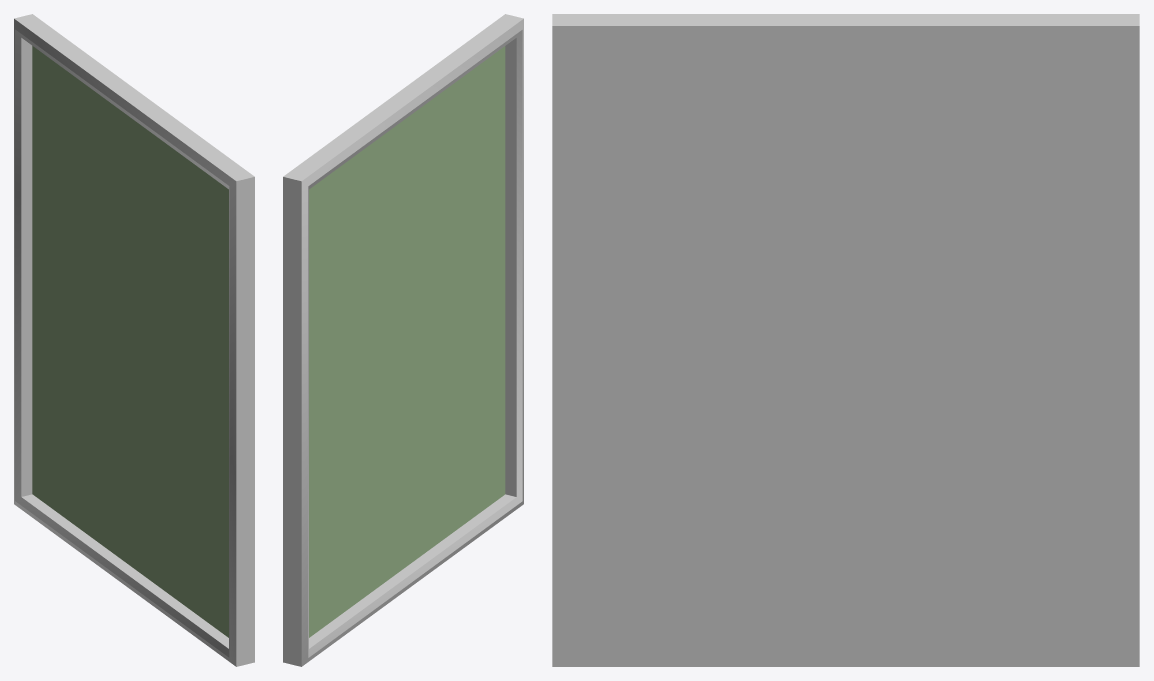
The picture shows the model from 3 angles, left to right: view 1: azimuth 30°, elevation 25°; view 2: azimuth 150°, elevation 25°; view 3: azimuth 270°, elevation 25°; orthographic projection. The views are drawn at different scales.
Visible parts, largest first — view 1: GH0311; view 2: GH0311; view 3: GH0311.
Part boxes in pixels (left/top/right/bottom): GH0311: left=14, top=14, right=254, bottom=666; GH0311: left=283, top=14, right=523, bottom=666; GH0311: left=552, top=14, right=1139, bottom=666.
Bounding box in the file's own units: 4.63 × 83 × 100.
